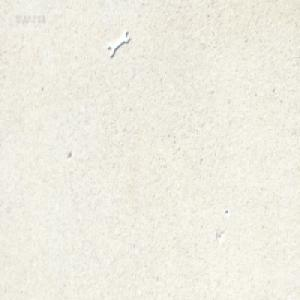Wrench: (107, 26, 130, 54)
